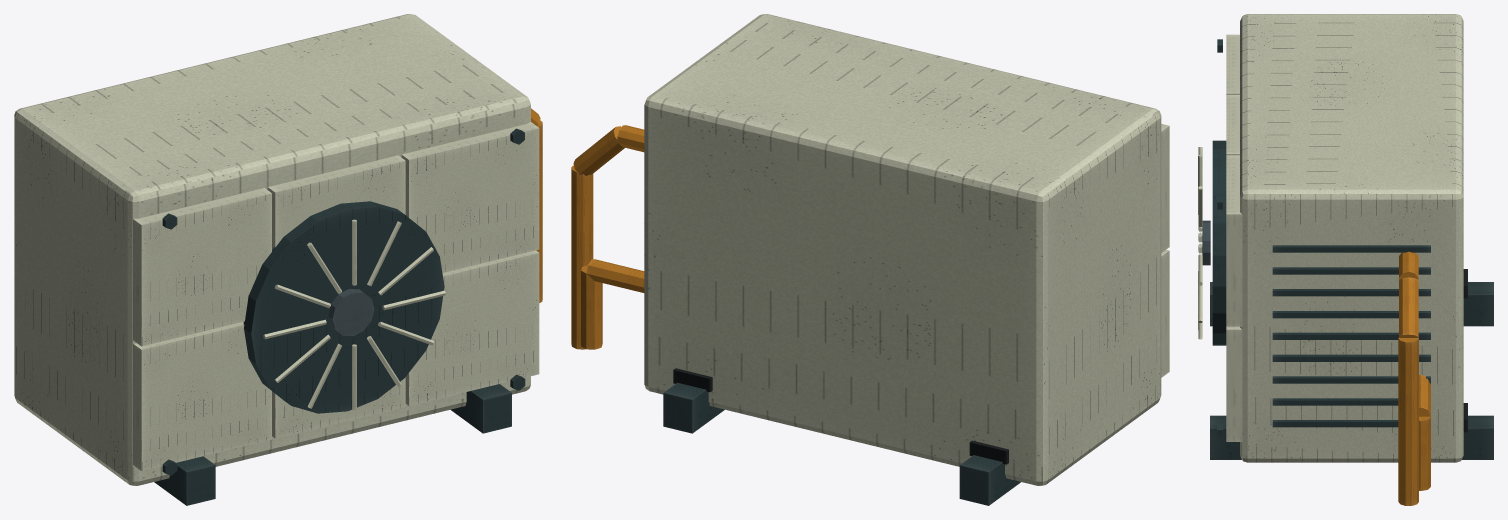
File: hvac_unit.fbx
3 views of the same model, side by side, from view 1: azimuth 30°, elevation 25°; view 2: azimuth 150°, elevation 25°; view 3: azimuth 270°, elevation 25° (orthographic). The views are drawn at different scales.
Parts seen in each view (by area): view 1: hvac_unit__chassis, hvac_unit__fan_ring, hvac_unit__front_panel.003, hvac_unit__front_panel, hvac_unit__front_panel.005, hvac_unit__front_panel.002, hvac_unit__front_panel.004, hvac_unit__front_panel.001, hvac_unit__foot.001, hvac_unit__foot, hvac_unit__fan_hub, hvac_unit__refrigerant_return.002; view 2: hvac_unit__chassis, hvac_unit__refrigerant_return.002, hvac_unit__foot, hvac_unit__foot.001, hvac_unit__pipeB, hvac_unit__pipeA, hvac_unit__refrigerant_return.001, hvac_unit__front_panel.003, hvac_unit__front_panel; view 3: hvac_unit__chassis, hvac_unit__refrigerant_return.002, hvac_unit__fan_ring, hvac_unit__front_panel.005, hvac_unit__foot.001, hvac_unit__front_panel.002, hvac_unit__foot, hvac_unit__side_louver.008, hvac_unit__refrigerant_return.001, hvac_unit__side_louver.007, hvac_unit__side_louver.005, hvac_unit__side_louver.006 (+11 smaller).
Boxes of the visible parts, left/top/right/bottom form: hvac_unit__chassis: left=14, top=14, right=530, bottom=485; hvac_unit__fan_ring: left=243, top=201, right=444, bottom=413; hvac_unit__front_panel.003: left=133, top=188, right=271, bottom=346; hvac_unit__front_panel: left=133, top=321, right=271, bottom=471; hvac_unit__front_panel.005: left=401, top=122, right=539, bottom=272; hvac_unit__front_panel.002: left=405, top=250, right=539, bottom=405; hvac_unit__front_panel.004: left=268, top=155, right=405, bottom=249; hvac_unit__front_panel.001: left=272, top=377, right=405, bottom=438; hvac_unit__foot.001: left=450, top=384, right=511, bottom=433; hvac_unit__foot: left=154, top=456, right=215, bottom=505; hvac_unit__fan_hub: left=328, top=289, right=374, bottom=336; hvac_unit__refrigerant_return.002: left=536, top=120, right=542, bottom=302; hvac_unit__chassis: left=644, top=14, right=1161, bottom=485; hvac_unit__refrigerant_return.002: left=571, top=165, right=593, bottom=349; hvac_unit__foot: left=959, top=455, right=1020, bottom=505; hvac_unit__foot.001: left=663, top=382, right=724, bottom=433; hvac_unit__pipeB: left=581, top=265, right=602, bottom=349; hvac_unit__pipeA: left=586, top=259, right=644, bottom=292; hvac_unit__refrigerant_return.001: left=573, top=126, right=624, bottom=175; hvac_unit__front_panel.003: left=1161, top=124, right=1169, bottom=252; hvac_unit__front_panel: left=1161, top=249, right=1169, bottom=377; hvac_unit__chassis: left=1240, top=14, right=1463, bottom=462; hvac_unit__refrigerant_return.002: left=1398, top=338, right=1418, bottom=505; hvac_unit__fan_ring: left=1212, top=140, right=1226, bottom=345; hvac_unit__front_panel.005: left=1226, top=155, right=1242, bottom=326; hvac_unit__foot.001: left=1210, top=415, right=1493, bottom=459; hvac_unit__front_panel.002: left=1226, top=326, right=1242, bottom=441; hvac_unit__foot: left=1210, top=282, right=1493, bottom=326; hvac_unit__side_louver.008: left=1272, top=245, right=1430, bottom=252; hvac_unit__refrigerant_return.001: left=1399, top=277, right=1418, bottom=337; hvac_unit__side_louver.007: left=1272, top=267, right=1430, bottom=274; hvac_unit__side_louver.005: left=1272, top=311, right=1430, bottom=318; hvac_unit__side_louver.006: left=1272, top=289, right=1430, bottom=296.
Bounding box in the file's own units: 311 × 183 × 172.
Materials: 5 (5 with a texture image).
